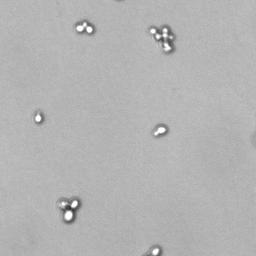cluster: (146, 21, 180, 58), (54, 192, 86, 225), (74, 17, 96, 37), (148, 120, 170, 140), (27, 107, 49, 127)
individual: (144, 240, 166, 256)
